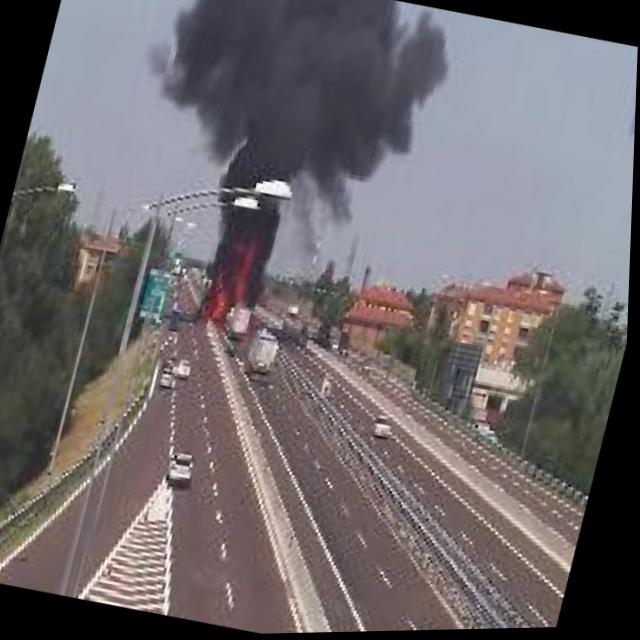fire: (195, 228, 277, 336)
